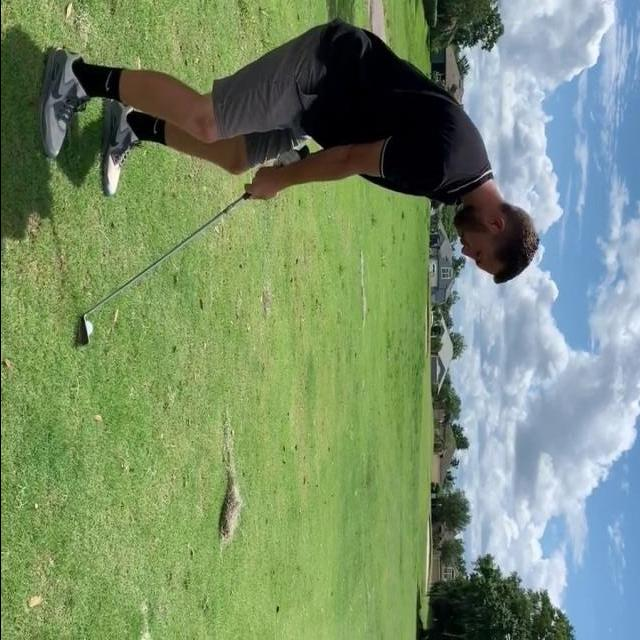golf ball: (85, 320, 92, 335)
golf club-handle: (76, 145, 308, 346)
golf club-head: (76, 316, 89, 347)
